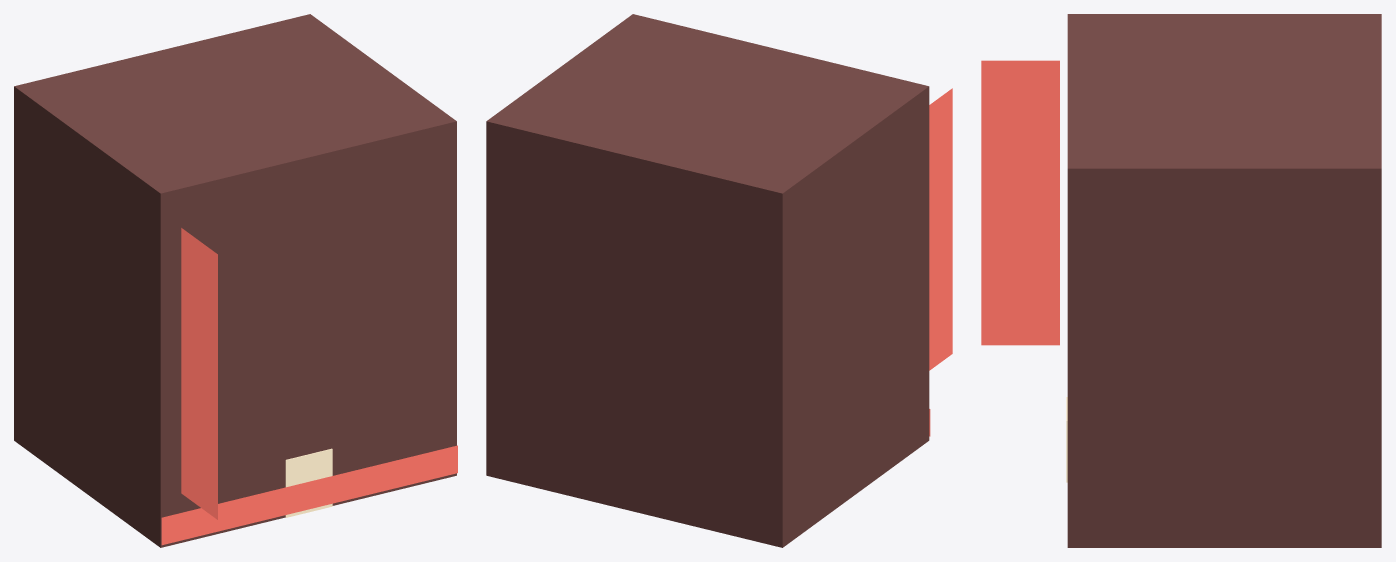
Rendered from rebel_cell_landmark.glb.
3 views of the same model, side by side, from view 1: azimuth 30°, elevation 25°; view 2: azimuth 150°, elevation 25°; view 3: azimuth 270°, elevation 25° (orthographic). The views are drawn at different scales.
Visible parts, largest first — view 1: landmark_rebel_cell; view 2: landmark_rebel_cell; view 3: landmark_rebel_cell.
Boxes of the visible parts, left/top/right/bottom form: landmark_rebel_cell: left=14, top=14, right=457, bottom=547; landmark_rebel_cell: left=486, top=14, right=952, bottom=547; landmark_rebel_cell: left=981, top=14, right=1381, bottom=547.
Size of the model in its own units: 14 by 16 by 15.3.
